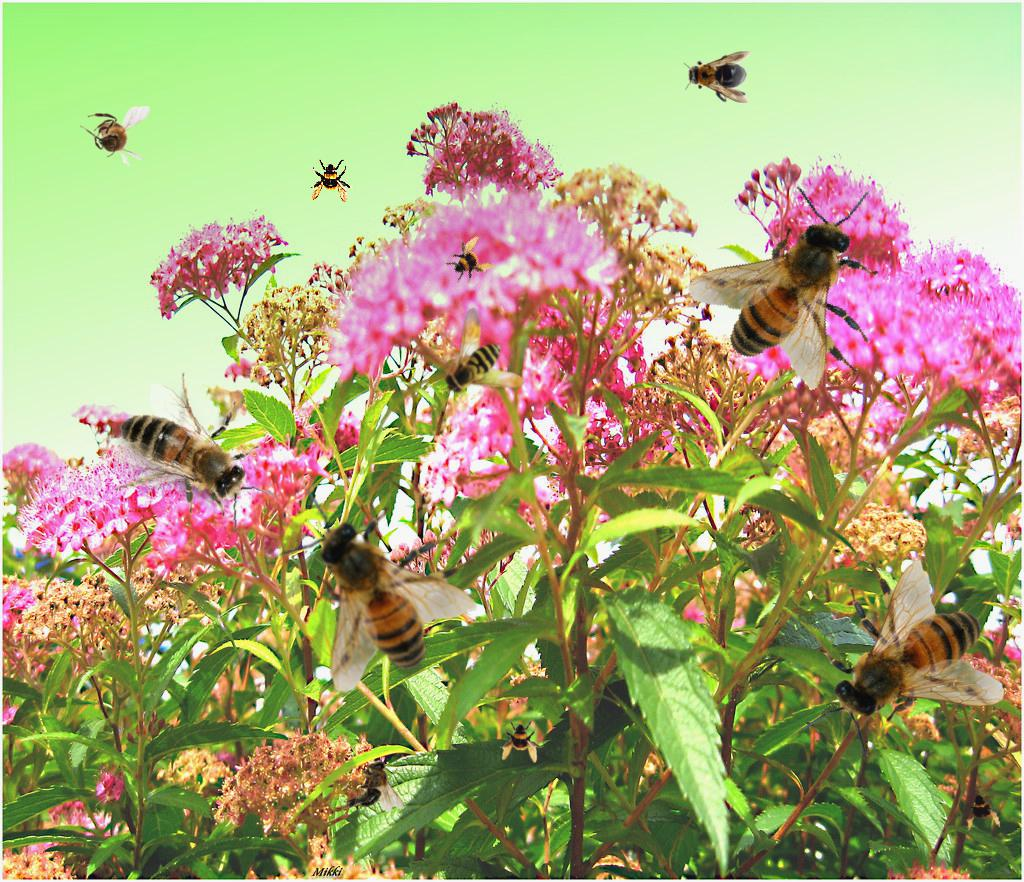Bee: (666, 163, 925, 419), (278, 489, 477, 693), (801, 560, 1005, 759), (103, 363, 282, 547), (442, 307, 524, 395), (80, 106, 150, 167), (437, 229, 499, 291), (683, 51, 751, 103), (342, 759, 404, 812), (956, 783, 1010, 837), (310, 159, 354, 203), (500, 719, 544, 763)
